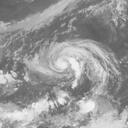cyclone: (34, 39, 95, 81)
